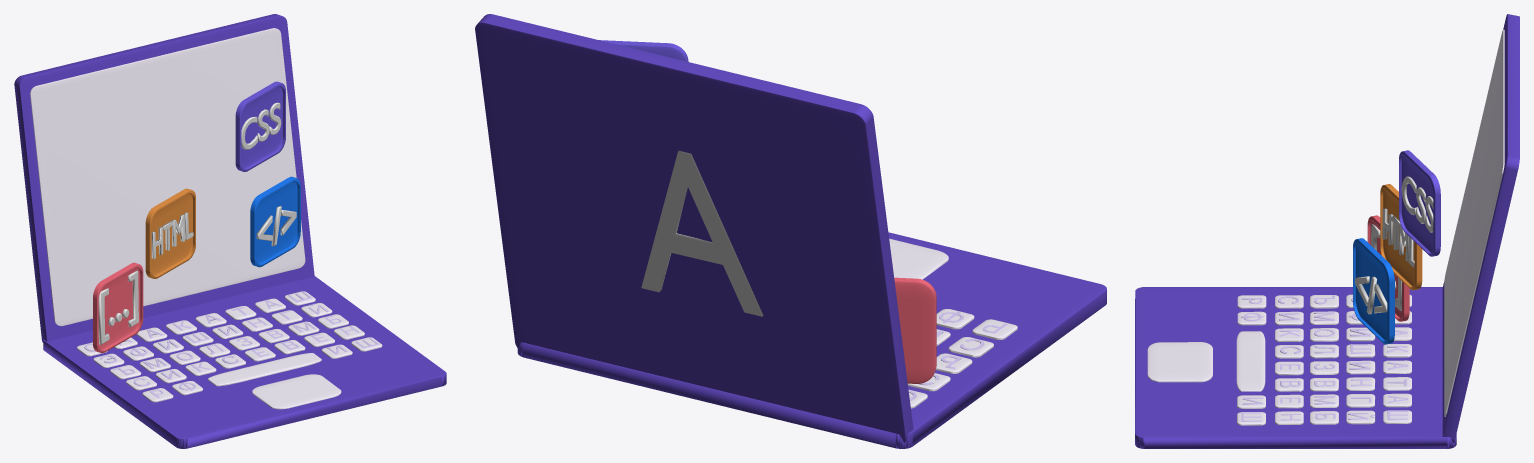
The model's file is noyt-B2hiJXiH.glb.
3 renders of one model, left to right at view 1: azimuth 30°, elevation 25°; view 2: azimuth 150°, elevation 25°; view 3: azimuth 270°, elevation 25°, orthographic. The views are drawn at different scales.
Visible parts, largest first — view 1: Cube.008, Cube, Text.001, Cube.004, Text.002; view 2: Cube.008, Cube.004, Text.001; view 3: Cube.008, Text.001, Cube, Text.002, Cube.004.
Boxes of the visible parts, x1,y1,x2,y2 form: Cube.008: (14,14,446,448); Cube: (250,176,300,267); Text.001: (235,81,285,171); Cube.004: (93,262,143,353); Text.002: (145,188,195,278); Cube.008: (475,14,1106,448); Cube.004: (894,277,936,383); Text.001: (599,40,688,61); Cube.008: (1135,14,1519,448); Text.001: (1399,150,1440,256); Cube: (1353,238,1394,344); Text.002: (1380,184,1422,290); Cube.004: (1367,215,1409,321).
Size of the model in its own units: 2.01 by 1.79 by 2.17.
